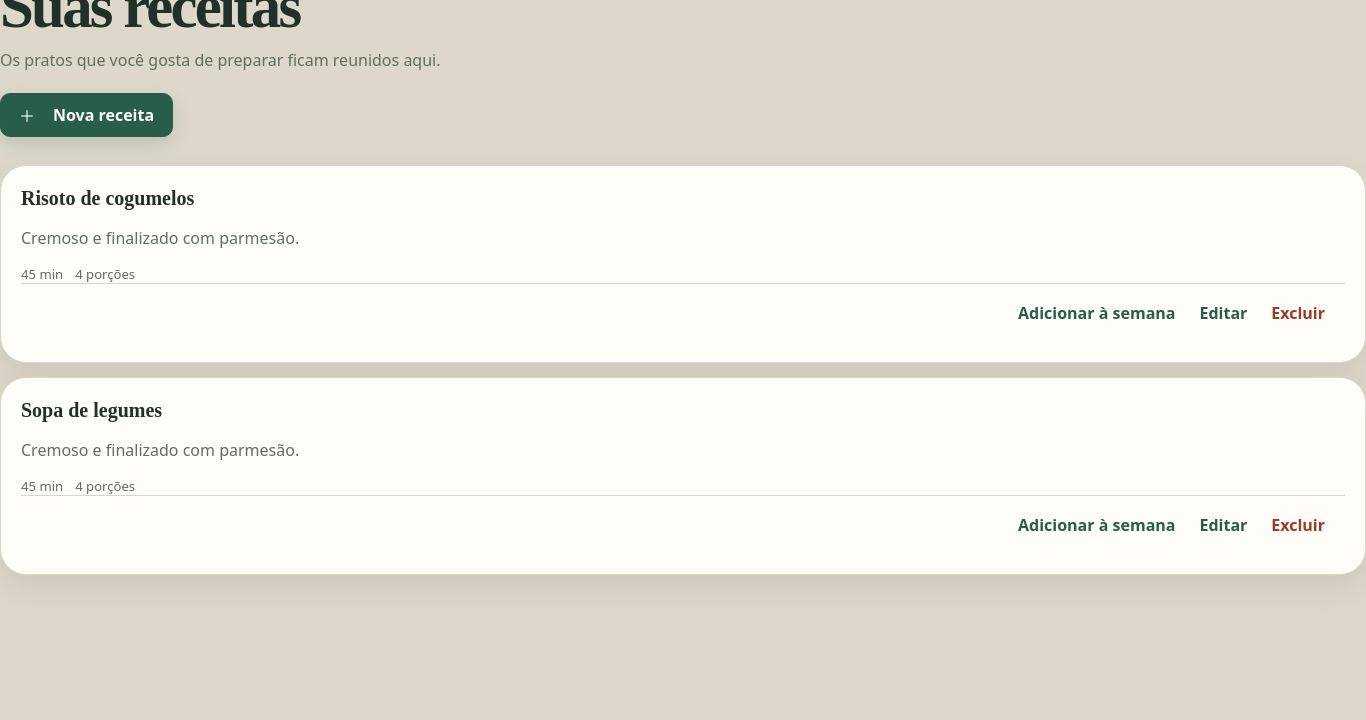
Test: RecipesPage › clears a failed save error before editing another recipe
Expected: the heading "Risoto de cogumelos" is shown, [21,186,194,210]
Step 1. Click the 1st button "Editar" → (1223,313), box [1194,292,1253,334]
(page scrolled)
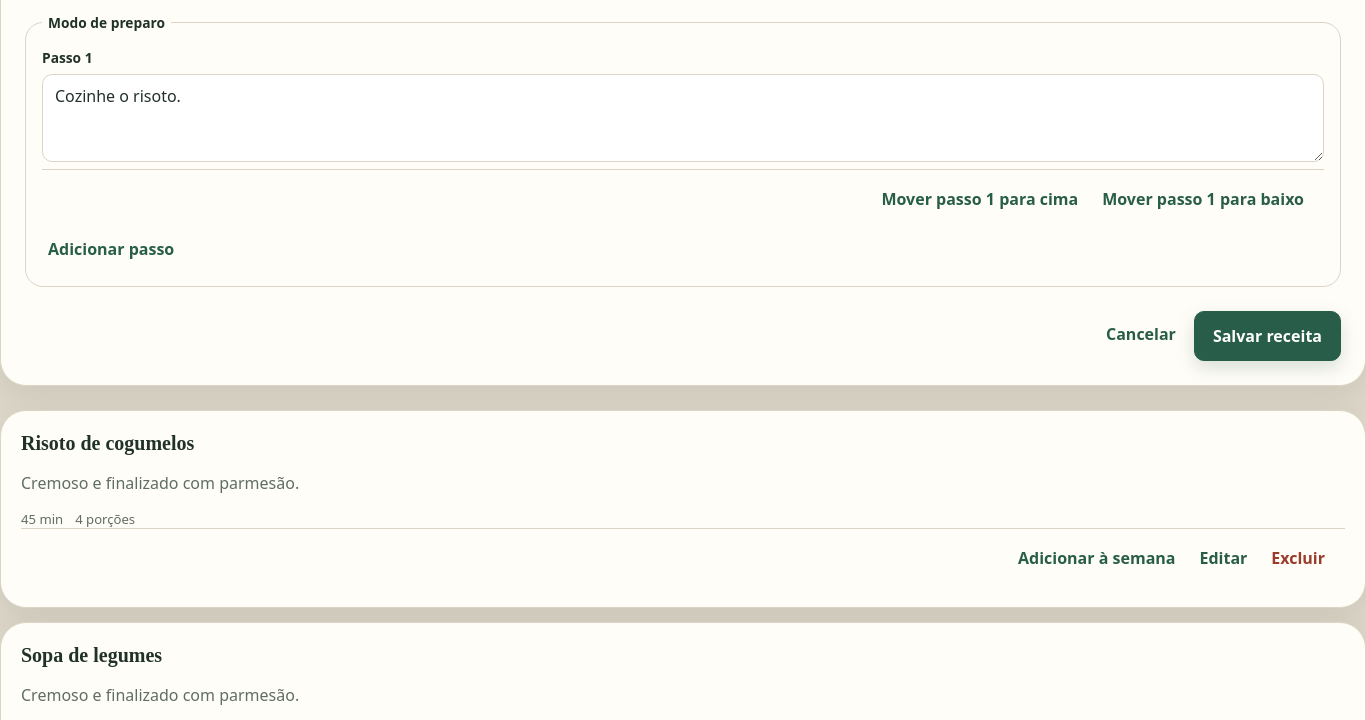
Step 2. Click the button "Salvar receita" → (1267,336), box [1194,311,1341,361]
(page scrolled)
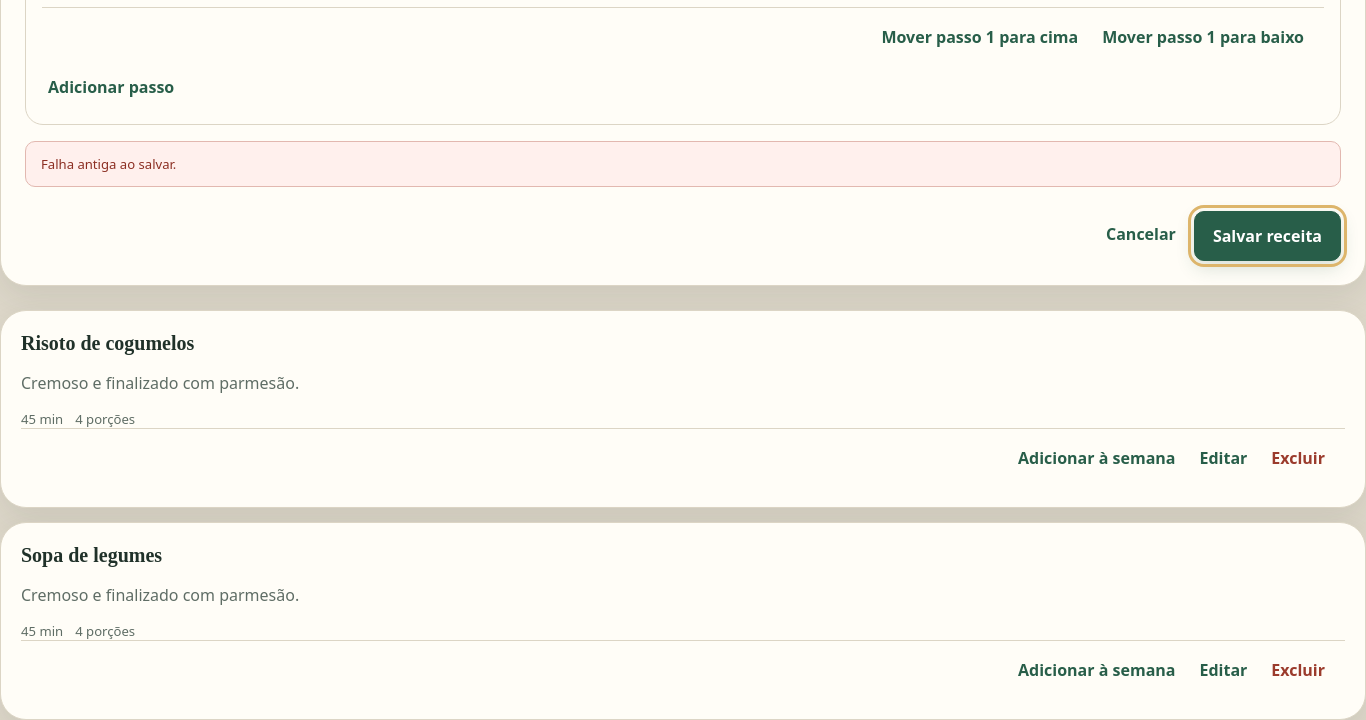
Expected: the message reads "Falha antiga ao salvar.", [41,155,176,173]
Step 3. Click the 2nd button "Editar" → (1223,670), box [1194,649,1253,691]
(page scrolled)
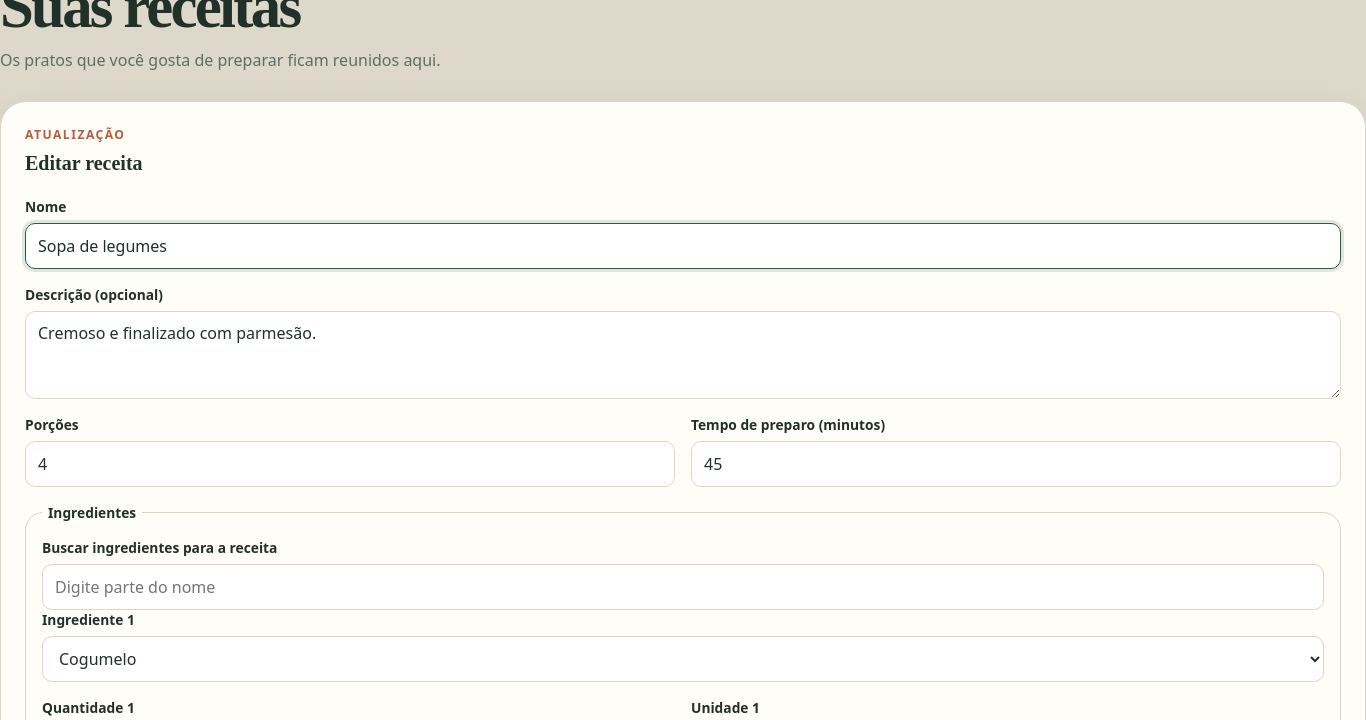
Expected: the field labelled "Nome" holds "Sopa de legumes", [25,223,1341,269]
Expected: the text "Falha antiga ao salvar." is gone
